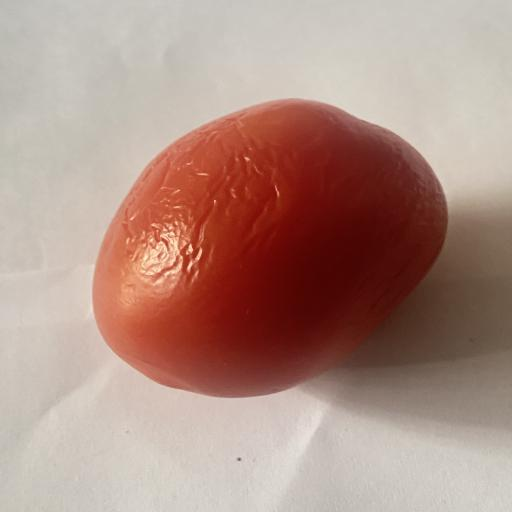spoiled: (93, 99, 447, 397)
